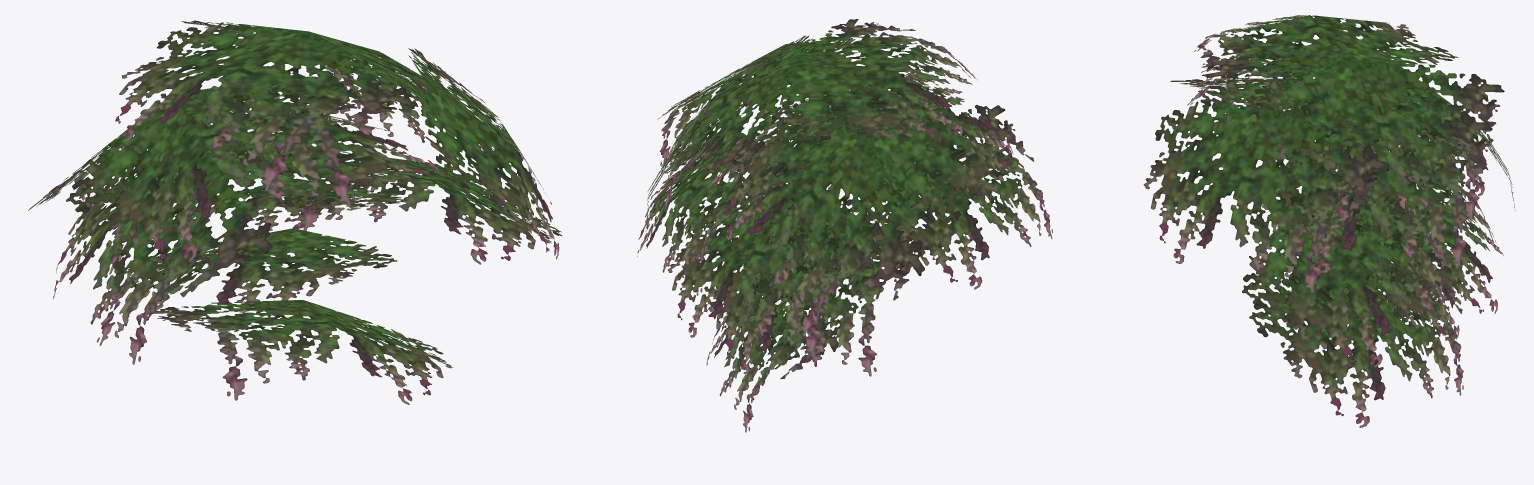
The model's file is cj_graveyard_grass03.glb.
3 renders of one model, left to right at view 1: azimuth 30°, elevation 25°; view 2: azimuth 150°, elevation 25°; view 3: azimuth 270°, elevation 25°, orthographic. The views are drawn at different scales.
Visible parts, largest first — view 1: cj_graveyard_grass03; view 2: cj_graveyard_grass03; view 3: cj_graveyard_grass03.
Part boxes in pixels (<box>): cj_graveyard_grass03: <box>28,20,561,404</box>; cj_graveyard_grass03: <box>637,19,1052,432</box>; cj_graveyard_grass03: <box>1143,15,1515,427</box>.
Bounding box in the file's own units: 6.19 × 5.04 × 5.36.
Materials: 1 (1 with a texture image).
